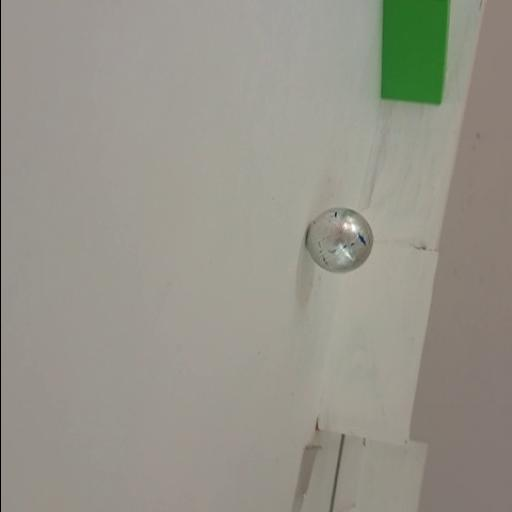alive: (304, 204, 376, 276)
